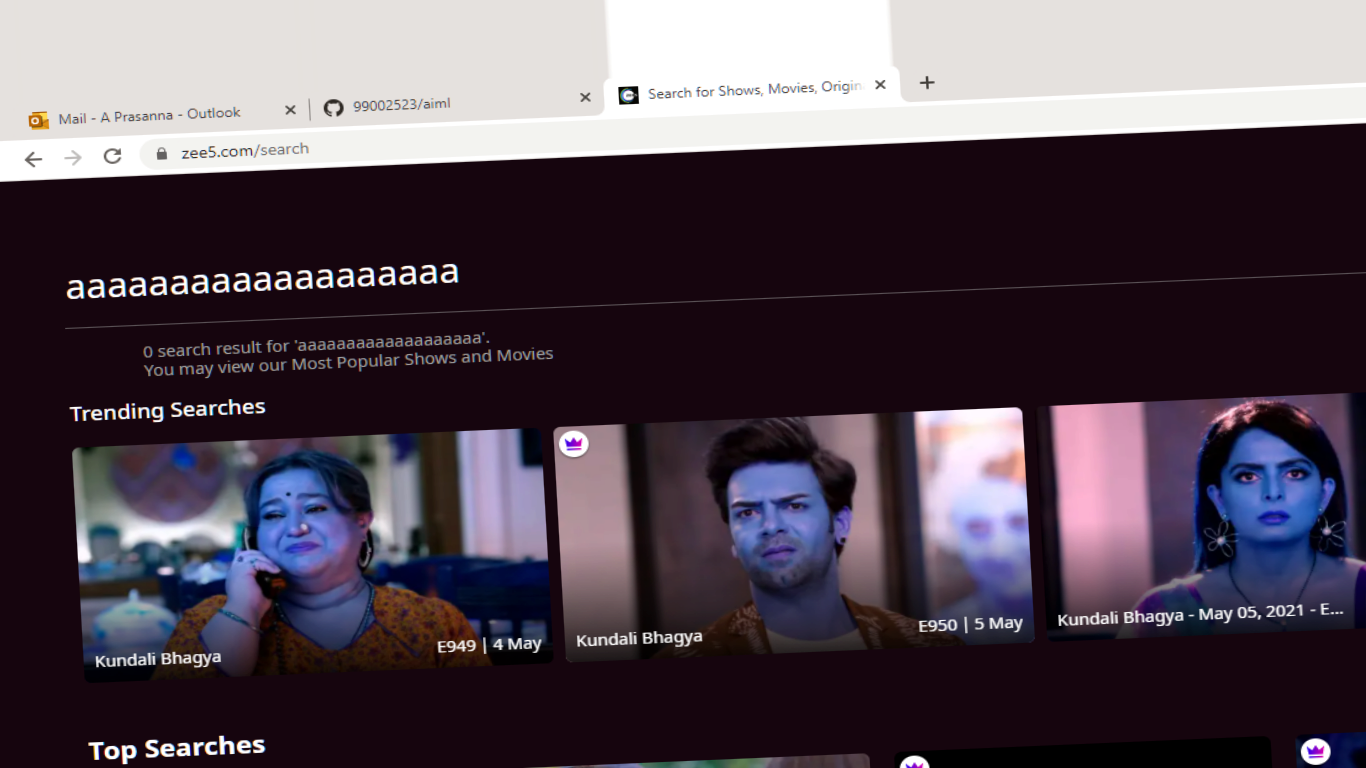noresultsfound: (126, 320, 578, 386)
searchtextbox: (42, 246, 1351, 323)
